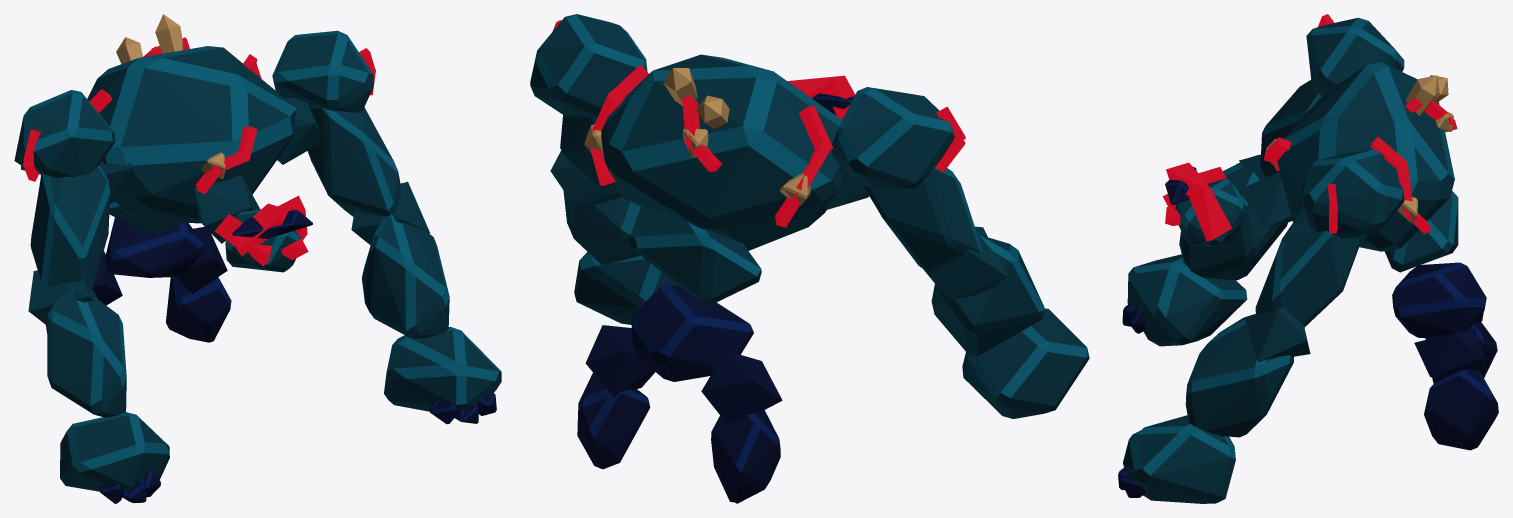
File: OreGolem.glb
3 views of the same model, side by side, from view 1: azimuth 30°, elevation 25°; view 2: azimuth 150°, elevation 25°; view 3: azimuth 270°, elevation 25° (orthographic). The views are drawn at different scales.
Visible parts, largest first — view 1: Torso, Arm_R, Arm_L, Fist_L, Forearm_L, Forearm_R, Fist_R, Body, Head, Leg_L, Neck, Brow (+6 smaller); view 2: Torso, Arm_R, Arm_L, Fist_R, Body, Forearm_R, Leg_R, Leg_L, Fist_L, Forearm_L, Hip_R, Hip_L (+4 smaller); view 3: Torso, Arm_L, Fist_L, Forearm_L, Fist_R, Arm_R, Body, Leg_L, Forearm_R, Head, Elbow_L, Hip_L (+3 smaller).
Part boxes in pixels (bbox=[...]): Torso: bbox=[87, 14, 296, 233]; Arm_R: bbox=[14, 90, 114, 290]; Arm_L: bbox=[272, 30, 400, 216]; Fist_L: bbox=[384, 327, 501, 424]; Forearm_L: bbox=[362, 214, 449, 338]; Forearm_R: bbox=[47, 288, 126, 417]; Fist_R: bbox=[60, 412, 169, 503]; Body: bbox=[105, 217, 203, 277]; Head: bbox=[225, 209, 312, 272]; Leg_L: bbox=[166, 277, 231, 342]; Neck: bbox=[194, 175, 259, 243]; Brow: bbox=[214, 195, 307, 256]; Torso: bbox=[584, 54, 842, 303]; Arm_R: bbox=[831, 87, 982, 270]; Arm_L: bbox=[530, 14, 647, 189]; Fist_R: bbox=[962, 308, 1089, 418]; Body: bbox=[631, 285, 753, 381]; Forearm_R: bbox=[931, 235, 1045, 356]; Leg_R: bbox=[711, 410, 780, 503]; Leg_L: bbox=[577, 373, 650, 469]; Fist_L: bbox=[574, 252, 678, 324]; Forearm_L: bbox=[563, 190, 655, 264]; Hip_R: bbox=[701, 350, 782, 423]; Hip_L: bbox=[585, 325, 654, 396]; Torso: bbox=[1264, 62, 1458, 272]; Arm_L: bbox=[1255, 149, 1404, 327]; Fist_L: bbox=[1118, 415, 1235, 503]; Forearm_L: bbox=[1185, 313, 1293, 437]; Fist_R: bbox=[1122, 254, 1247, 346]; Arm_R: bbox=[1260, 14, 1404, 176]; Body: bbox=[1392, 262, 1486, 338]; Leg_L: bbox=[1424, 369, 1498, 450]; Forearm_R: bbox=[1179, 154, 1288, 280]; Head: bbox=[1163, 167, 1247, 247]; Elbow_L: bbox=[1245, 307, 1310, 362]; Hip_L: bbox=[1414, 328, 1483, 378].
Size of the model in its own units: 1.07 by 0.8456 by 0.8245.
